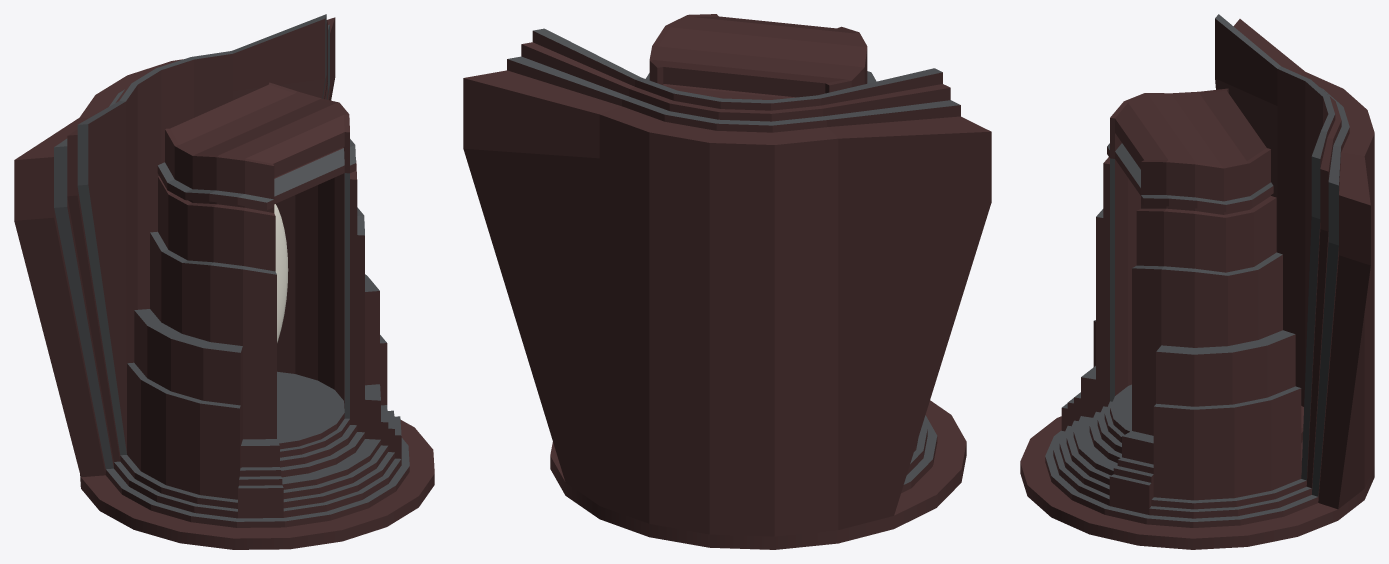
The model's file is portail_demon.fbx.
3 renders of one model, left to right at view 1: azimuth 30°, elevation 25°; view 2: azimuth 150°, elevation 25°; view 3: azimuth 270°, elevation 25°, orthographic. The views are drawn at different scales.
Visible parts, largest first — view 1: porte3_v1:pasted__door3, porte3_v1:pasted__portal1; view 2: porte3_v1:pasted__door3; view 3: porte3_v1:pasted__door3.
Part boxes in pixels (<box>): porte3_v1:pasted__door3: <box>14,14,434,549</box>; porte3_v1:pasted__portal1: <box>274,204,288,342</box>; porte3_v1:pasted__door3: <box>463,14,991,549</box>; porte3_v1:pasted__door3: <box>1020,14,1374,549</box>.
Size of the model in its own units: 35.47 by 33.57 by 28.43.
